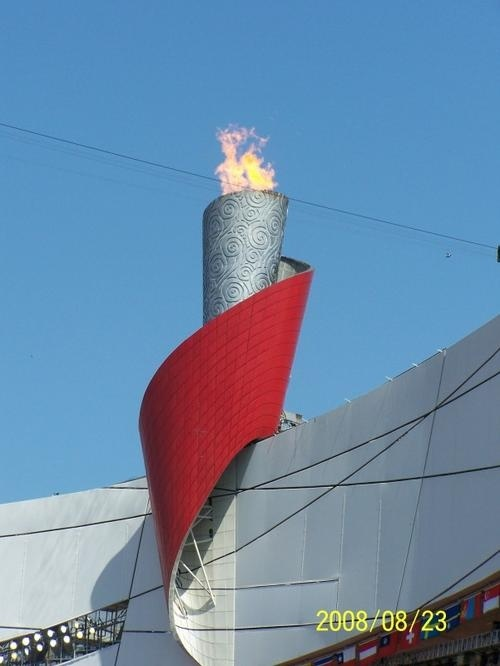fire: (213, 123, 278, 191)
